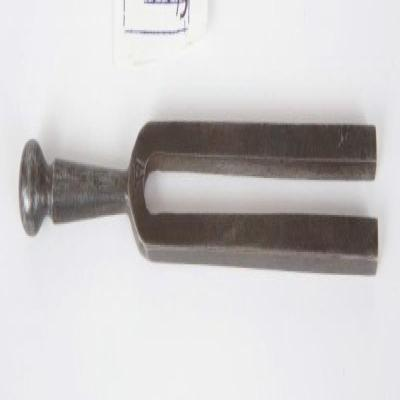other: (18, 122, 380, 278)
